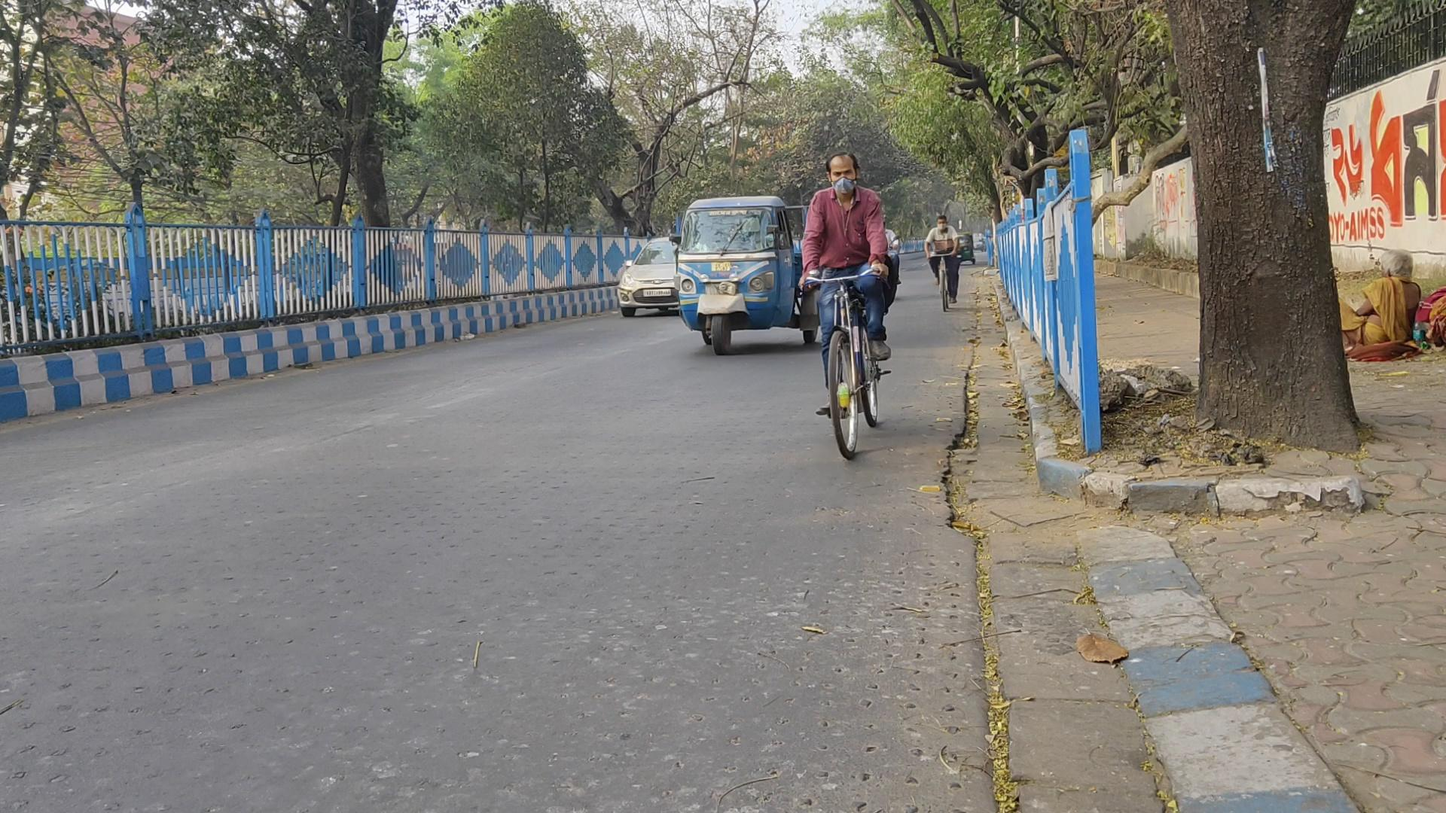Auto: (949, 232, 977, 266)
bike: (800, 154, 898, 461), (923, 212, 964, 312)
car: (618, 233, 684, 320)
van: (673, 196, 813, 356)
